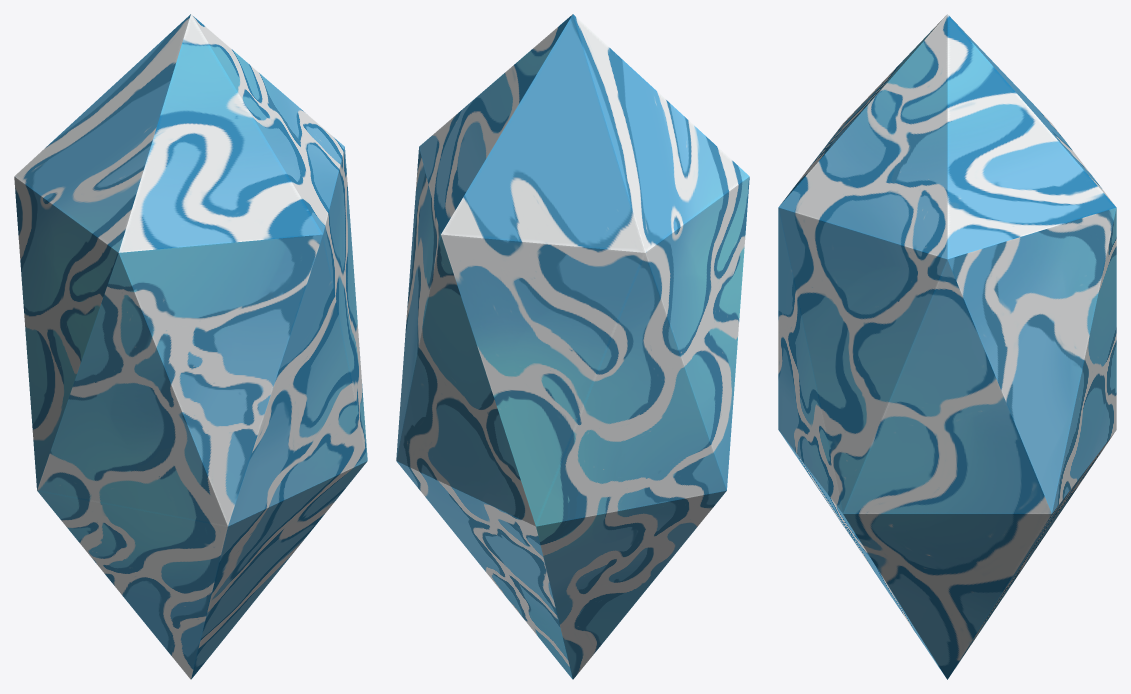
3 renders of one model, left to right at view 1: azimuth 30°, elevation 25°; view 2: azimuth 150°, elevation 25°; view 3: azimuth 270°, elevation 25°, orthographic.
Parts seen in each view (by area): view 1: Icosphere; view 2: Icosphere; view 3: Icosphere.
Part boxes in pixels (x1=…): Icosphere: x1=14, y1=14, x2=367, y2=679; Icosphere: x1=396, y1=14, x2=749, y2=679; Icosphere: x1=778, y1=14, x2=1116, y2=679.
Size of the model in its own units: 6.29 by 13 by 5.98.
Materials: 2 (1 with a texture image).
